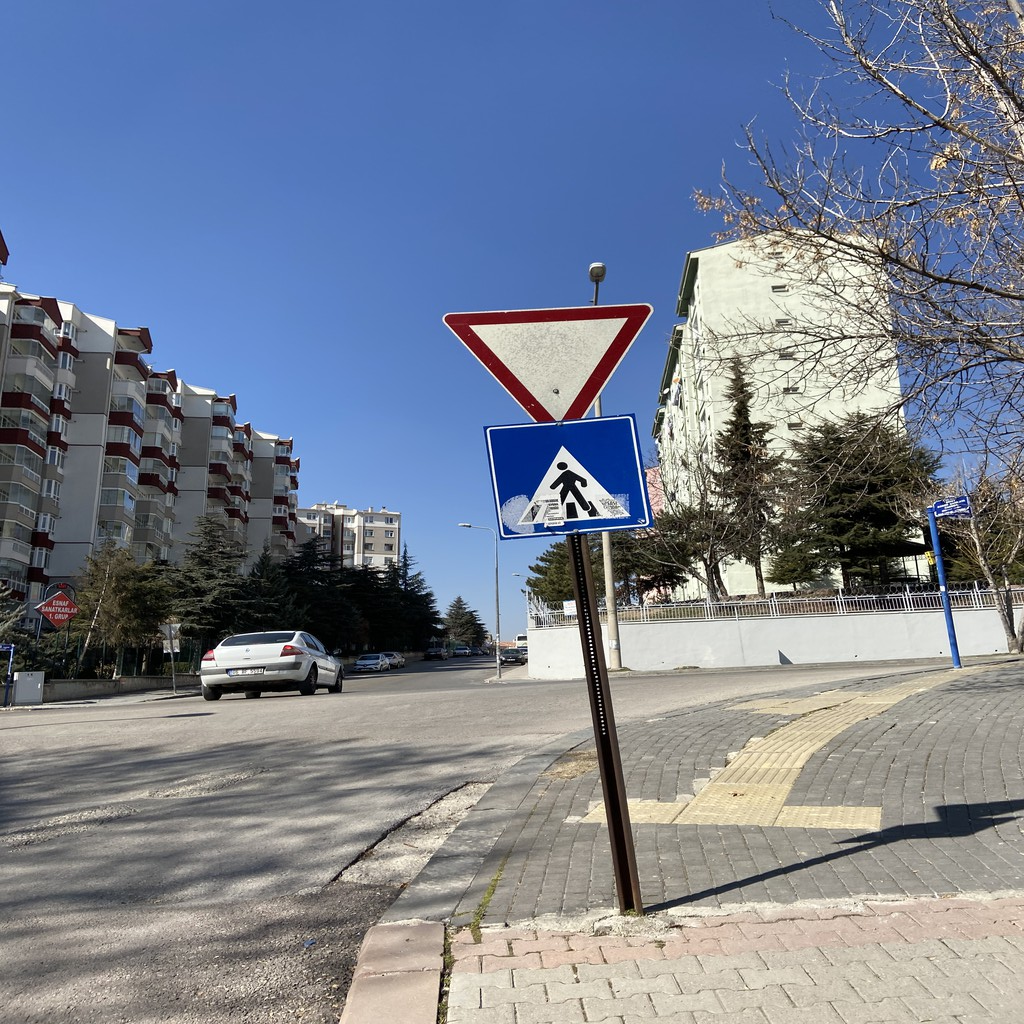Yaya Gecidi: (492, 418, 652, 536)
Yol Ver: (450, 295, 659, 423)
